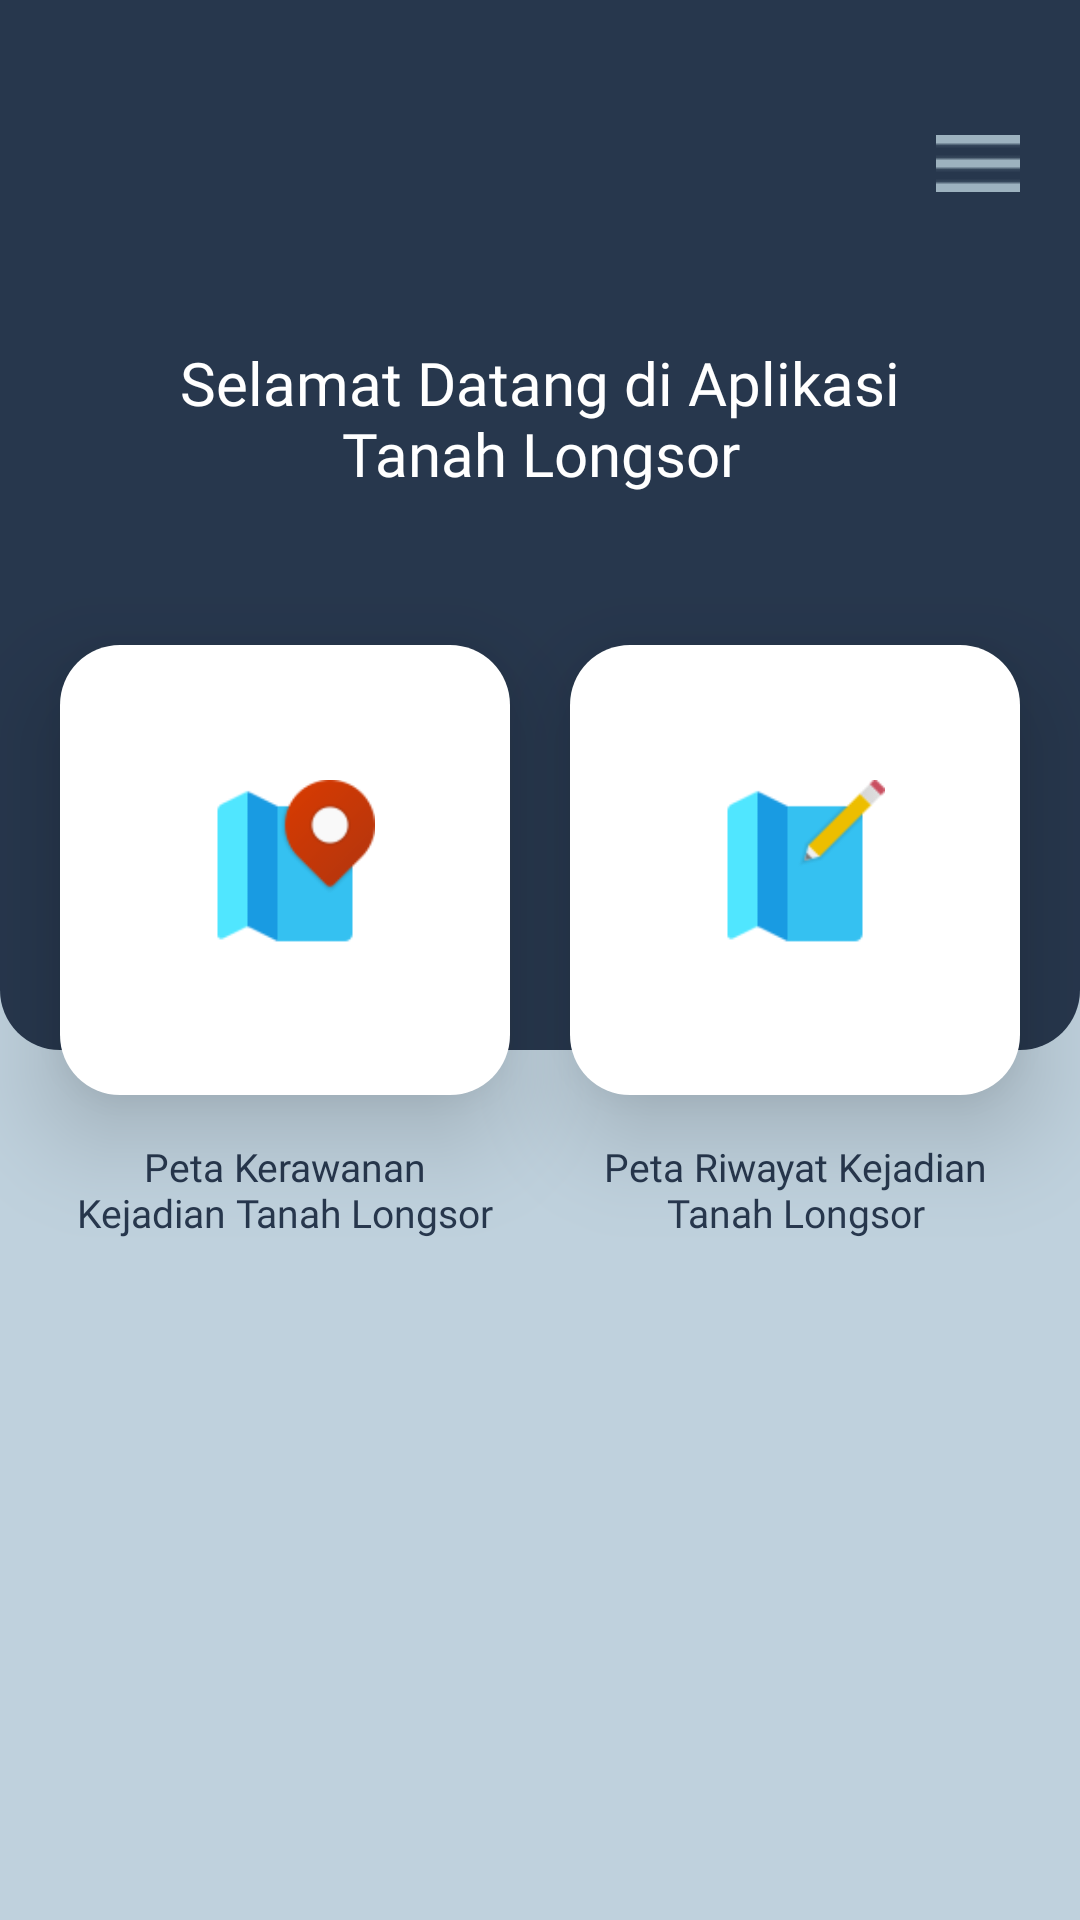

Where icons sit on this 1080w x 1920h app screen, as (x1, y1, x2, y2):
menu: (936, 135, 1020, 192)
